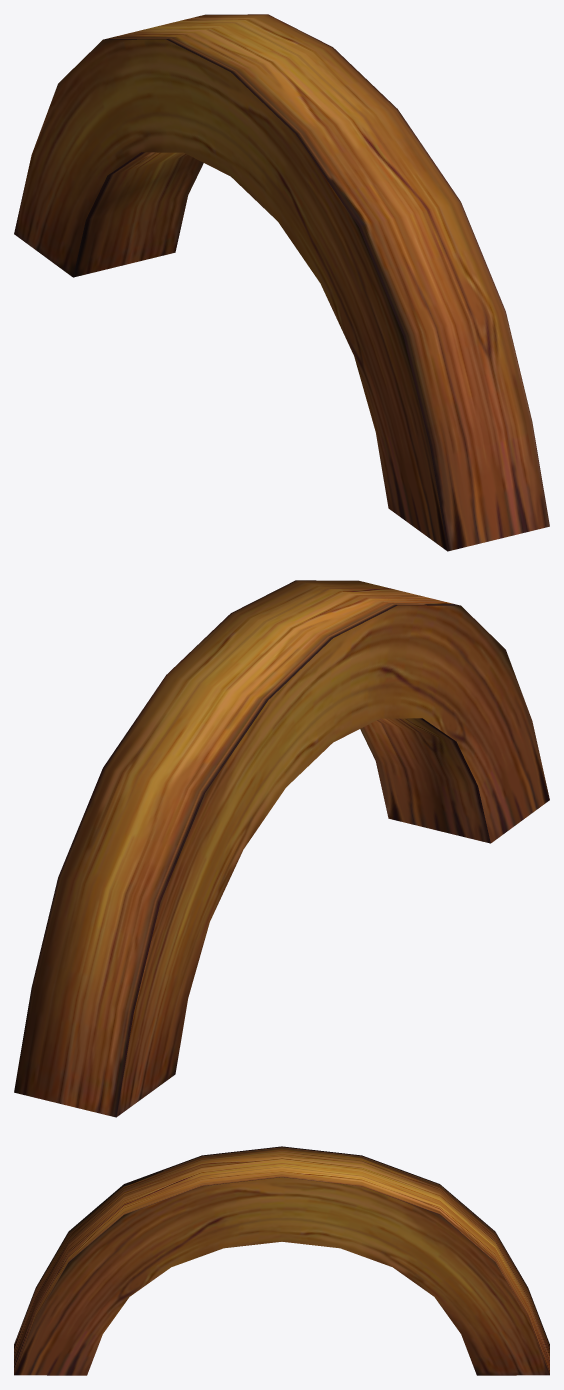
The model's file is CercasArcoFBX.fbx.
The picture shows the model from 3 angles, top to bottom: view 1: azimuth 30°, elevation 25°; view 2: azimuth 150°, elevation 25°; view 3: azimuth 270°, elevation 25°; orthographic projection. The views are drawn at different scales.
Visible parts, largest first — view 1: Circle; view 2: Circle; view 3: Circle.
Boxes of the visible parts, x1=… form: Circle: x1=14, y1=14, x2=549, y2=551; Circle: x1=14, y1=580, x2=549, y2=1117; Circle: x1=14, y1=1146, x2=549, y2=1375.
Size of the model in its own units: 64.88 by 194 by 476.
Materials: 1 (1 with a texture image).
